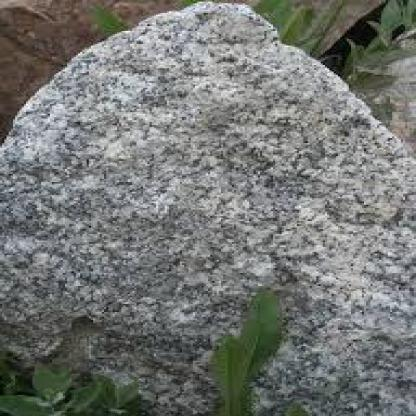Igneous_Diorite: (2, 3, 414, 413)
